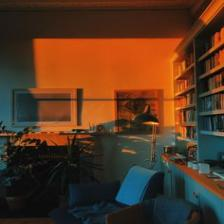orange: (33, 39, 182, 99)
